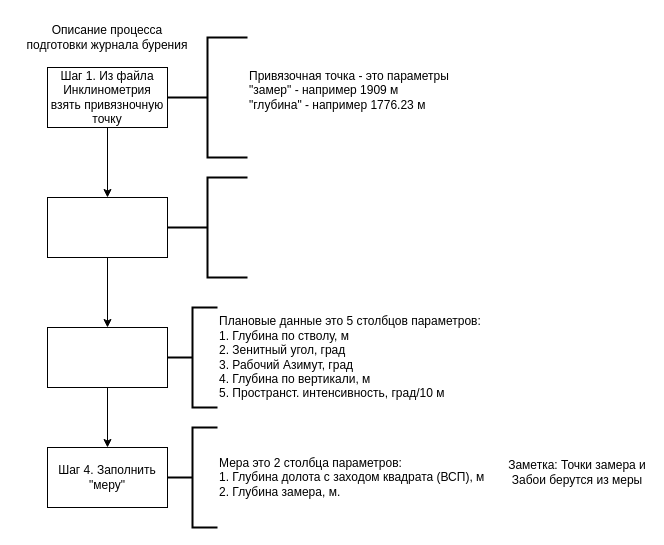
Image size: 664x545. Some labels were removed from this diagram. The box of each missing label's shape, as (x1, y1, x2, y2) in pixels:
Например 1917 м: (166, 176, 248, 278)
Шаг 2. Указать начальную глубину: (46, 196, 168, 258)
Шаг 3. Заполнить плановые данные: (46, 326, 168, 388)
